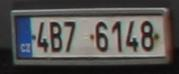.: (89, 32, 95, 42), (155, 32, 161, 41), (30, 33, 37, 40)
1: (112, 21, 124, 53)
4: (126, 20, 139, 52), (37, 22, 48, 53)
6: (94, 22, 110, 54)
7: (64, 20, 77, 54)
8: (141, 21, 155, 52)
B: (48, 20, 63, 54)
